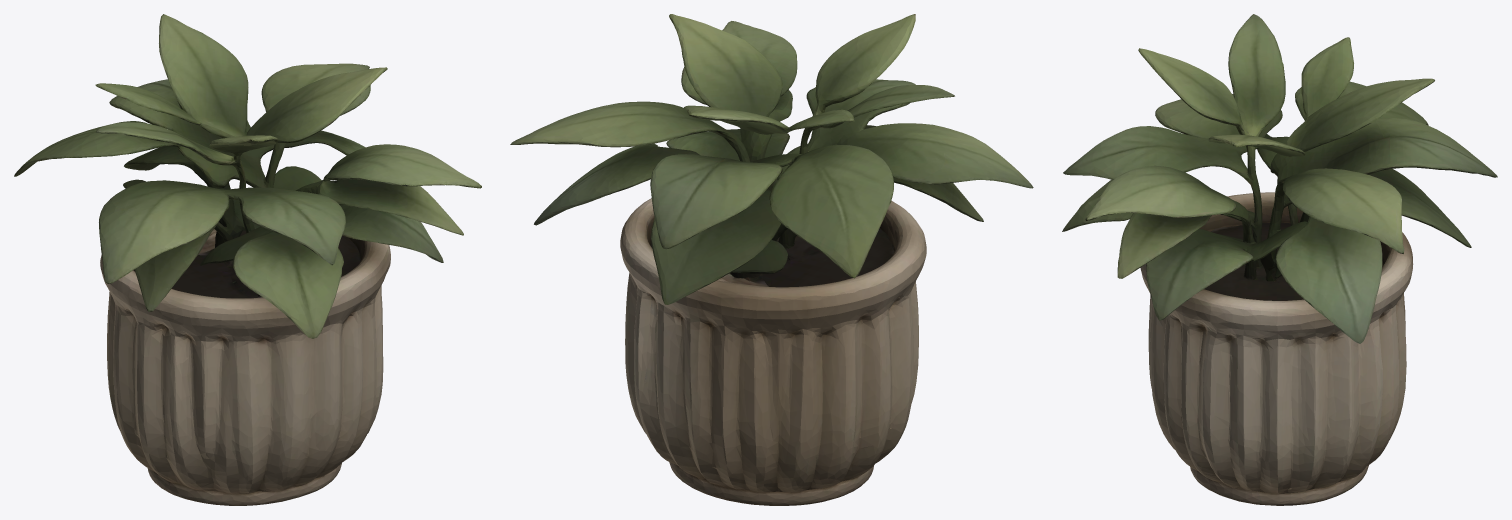
Rendered from item_plant_potted.glb.
3 views of the same model, side by side, from view 1: azimuth 30°, elevation 25°; view 2: azimuth 150°, elevation 25°; view 3: azimuth 270°, elevation 25° (orthographic). The views are drawn at different scales.
Visible parts, largest first — view 1: geometry_0; view 2: geometry_0; view 3: geometry_0.
Boxes of the visible parts, x1=… form: geometry_0: x1=14, y1=14, x2=481, y2=505; geometry_0: x1=510, y1=14, x2=1033, y2=505; geometry_0: x1=1062, y1=14, x2=1497, y2=505.
Size of the model in its own units: 0.9754 by 0.9721 by 0.9898.
1 material, 1 textured.
